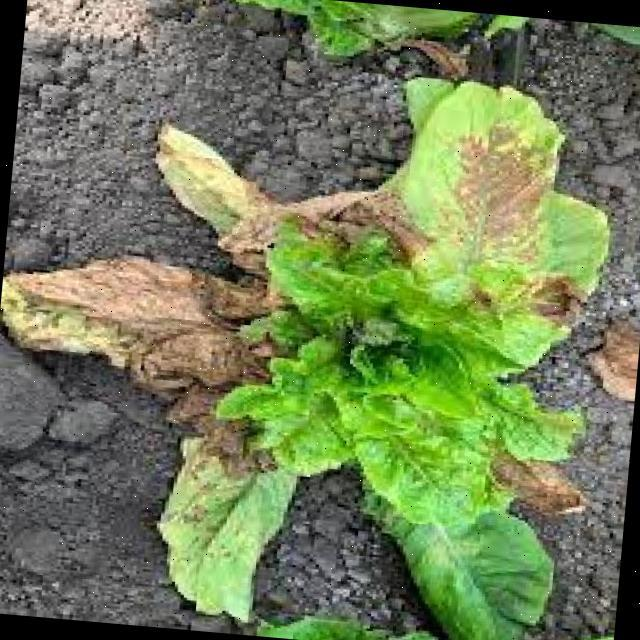Lettuce Mosaic Virus: (122, 269, 368, 431), (402, 113, 573, 295)
